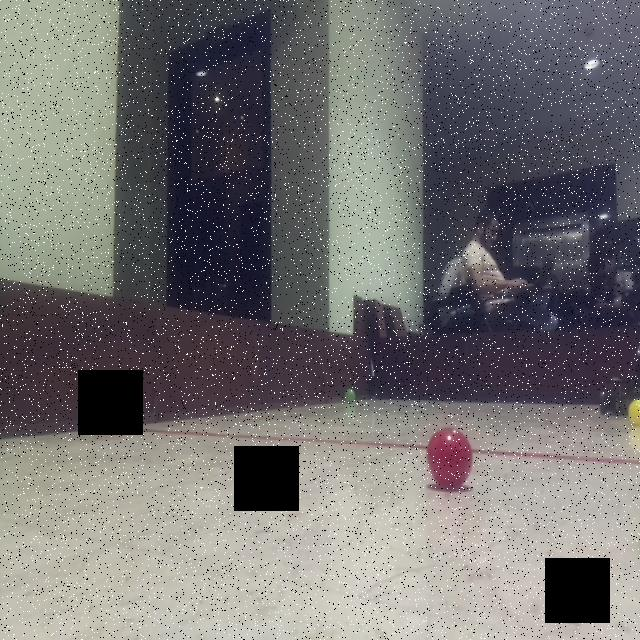ball: (425, 424, 476, 489), (338, 382, 361, 410), (626, 396, 639, 428)
